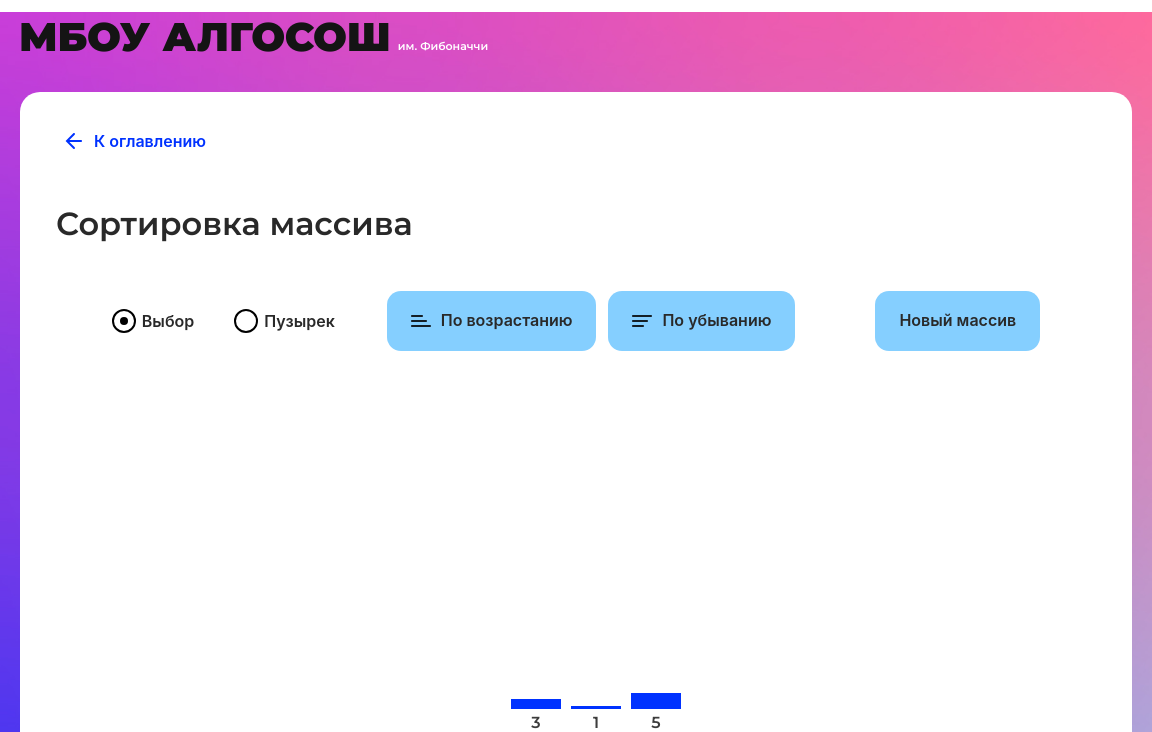
Scenario: SortingPage component › Сортировка пузырьком по убыванию 3х элементов
Click the radio button labelled "Пузырек" at (300, 321), box [264,310,335,332]
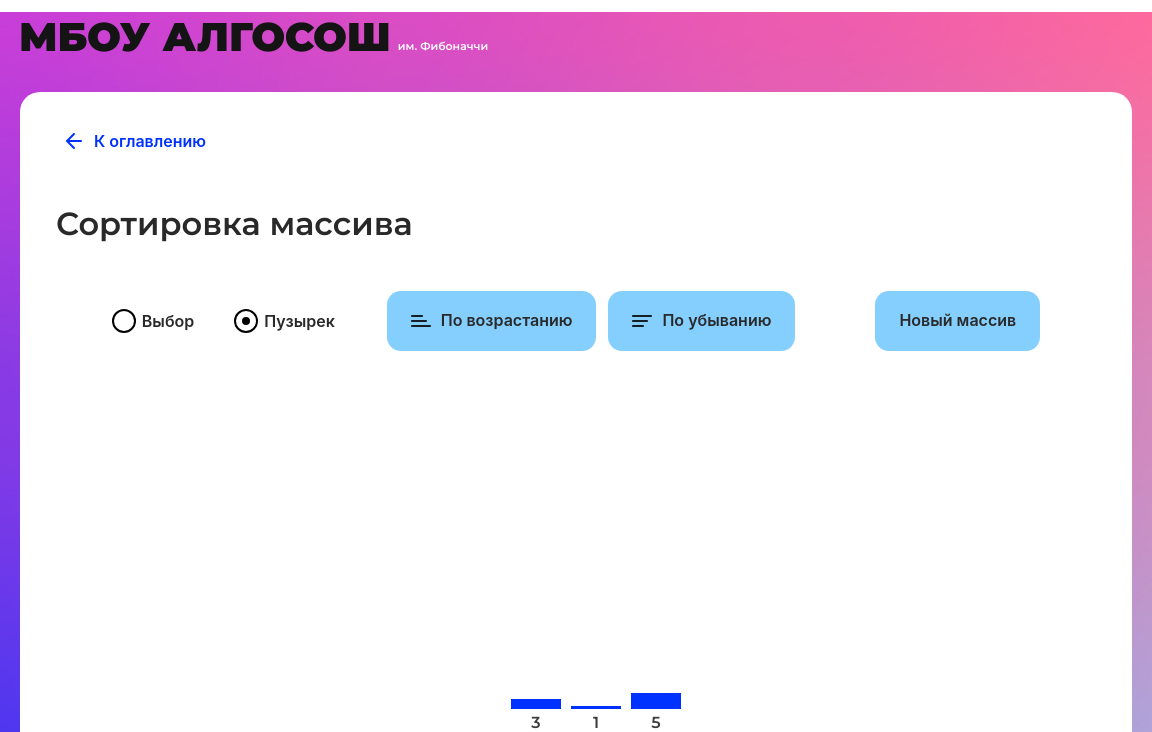
Click the button "По убыванию" at (702, 321), box [608,291,795,351]
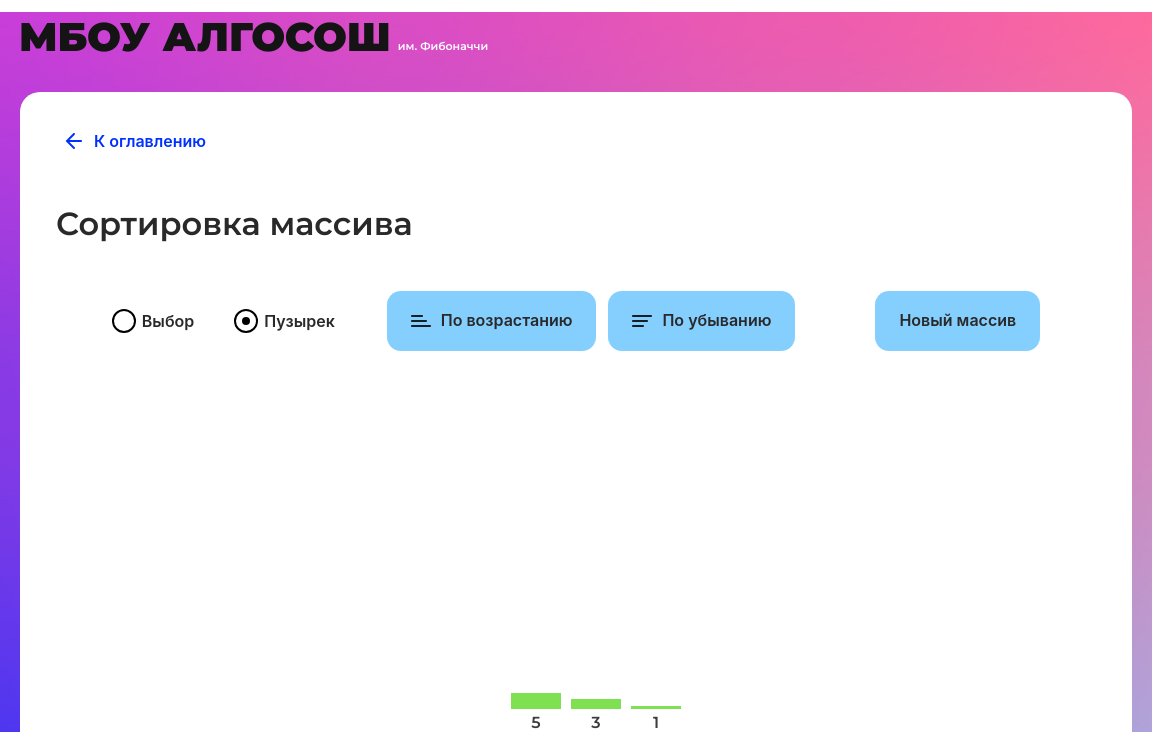
Result: the text with test id "column" reads "5" at [531,713,541,731]
Result: the text with test id "column" reads "3" at [591,713,601,731]
Result: the text with test id "column" reads "1" at [653,713,659,731]
